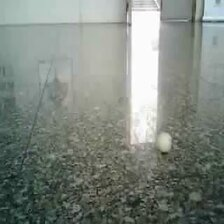w: (155, 131, 173, 154)
